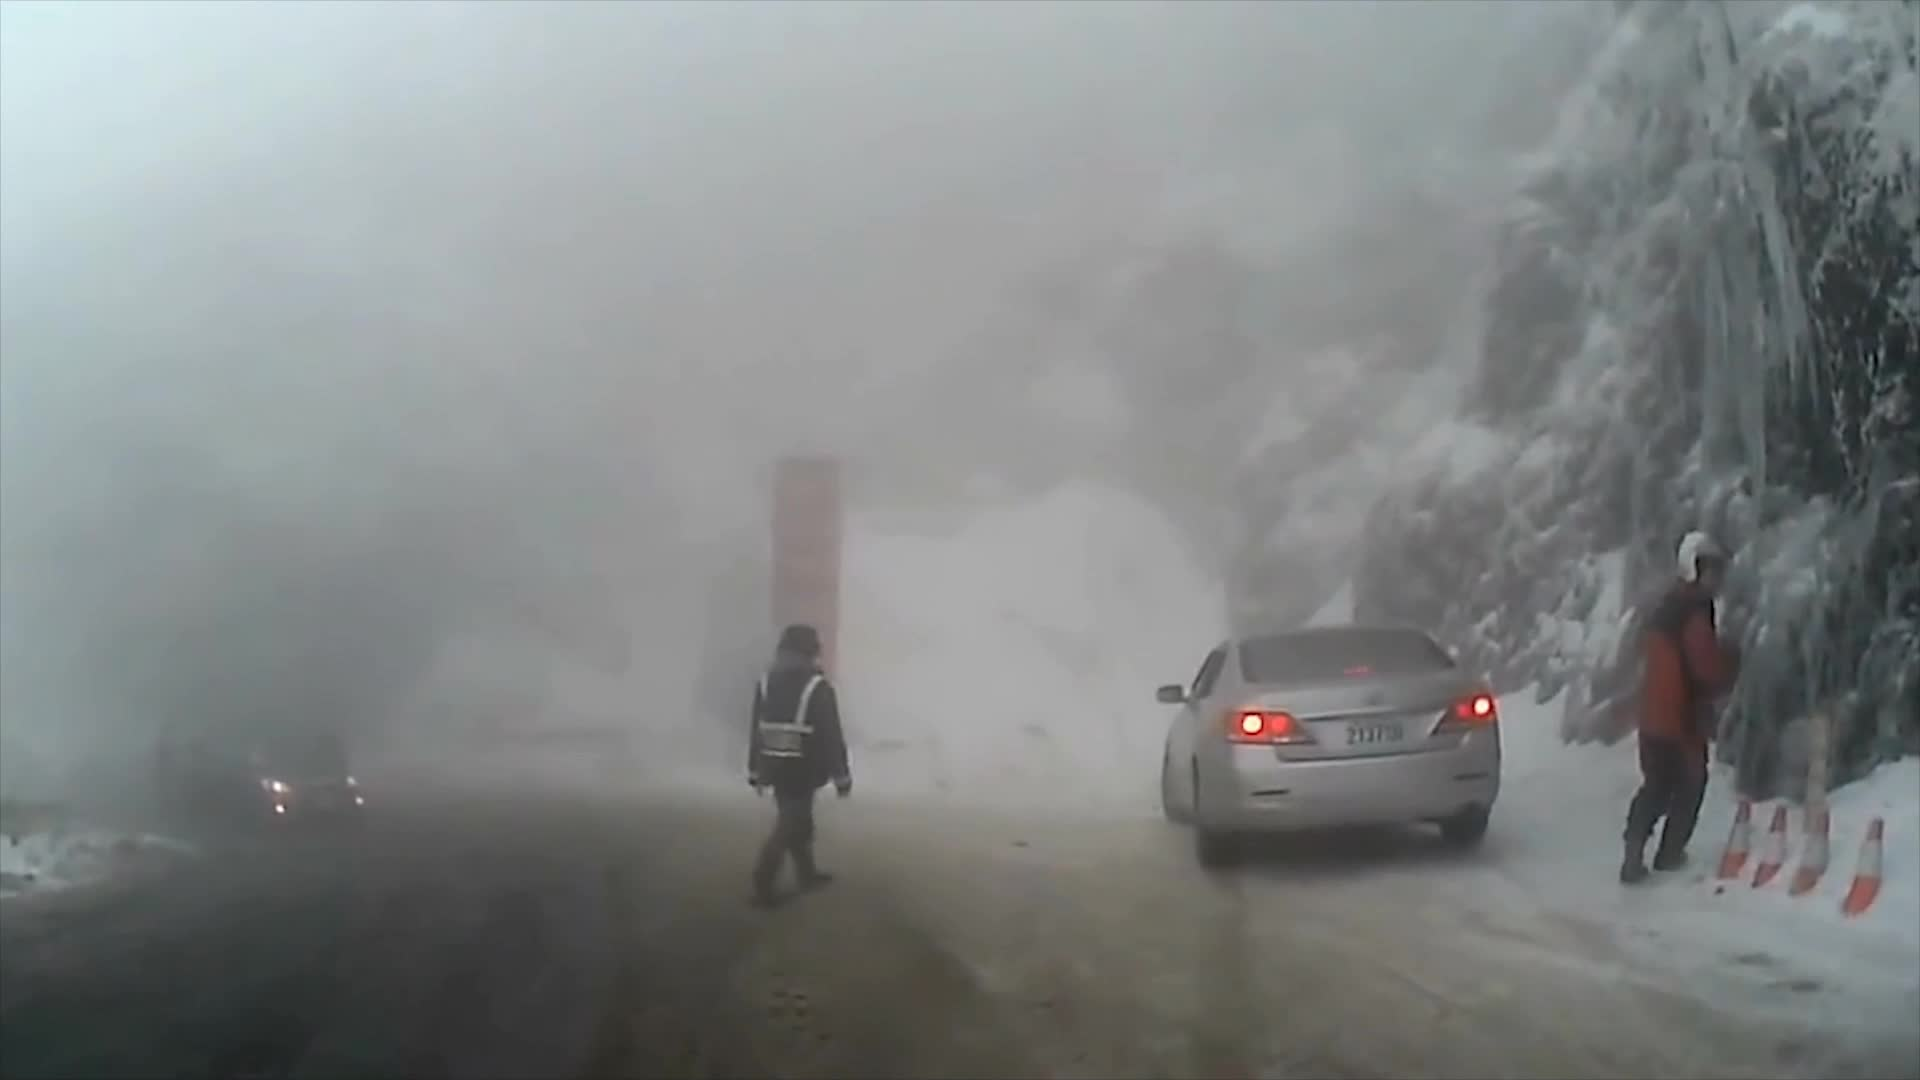pedestrian: (1616, 540, 1751, 887), (746, 629, 859, 910)
vehicle: (1158, 624, 1501, 871)
